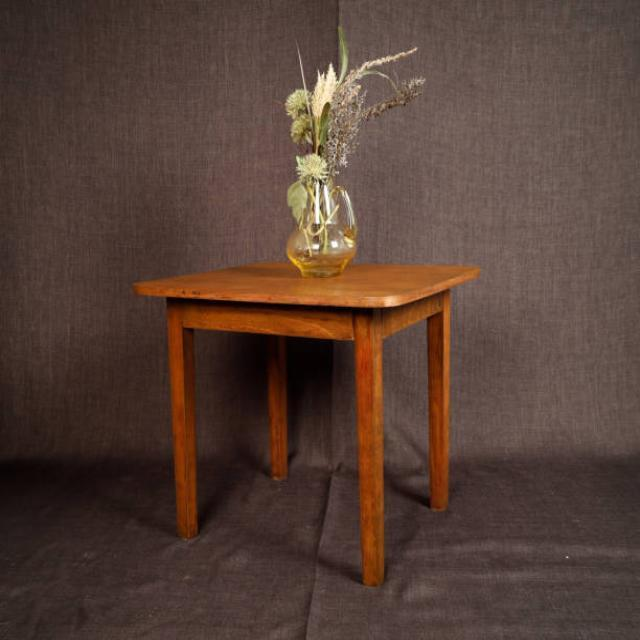table: (132, 259, 480, 586)
